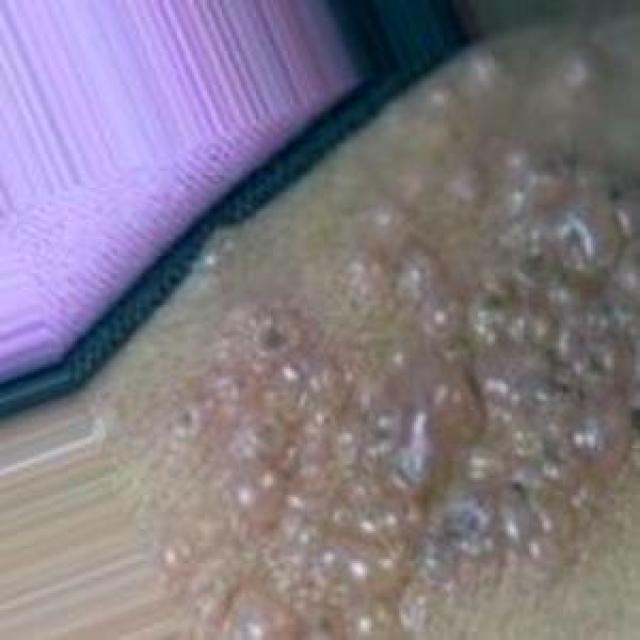Shingles: (158, 147, 640, 639)
